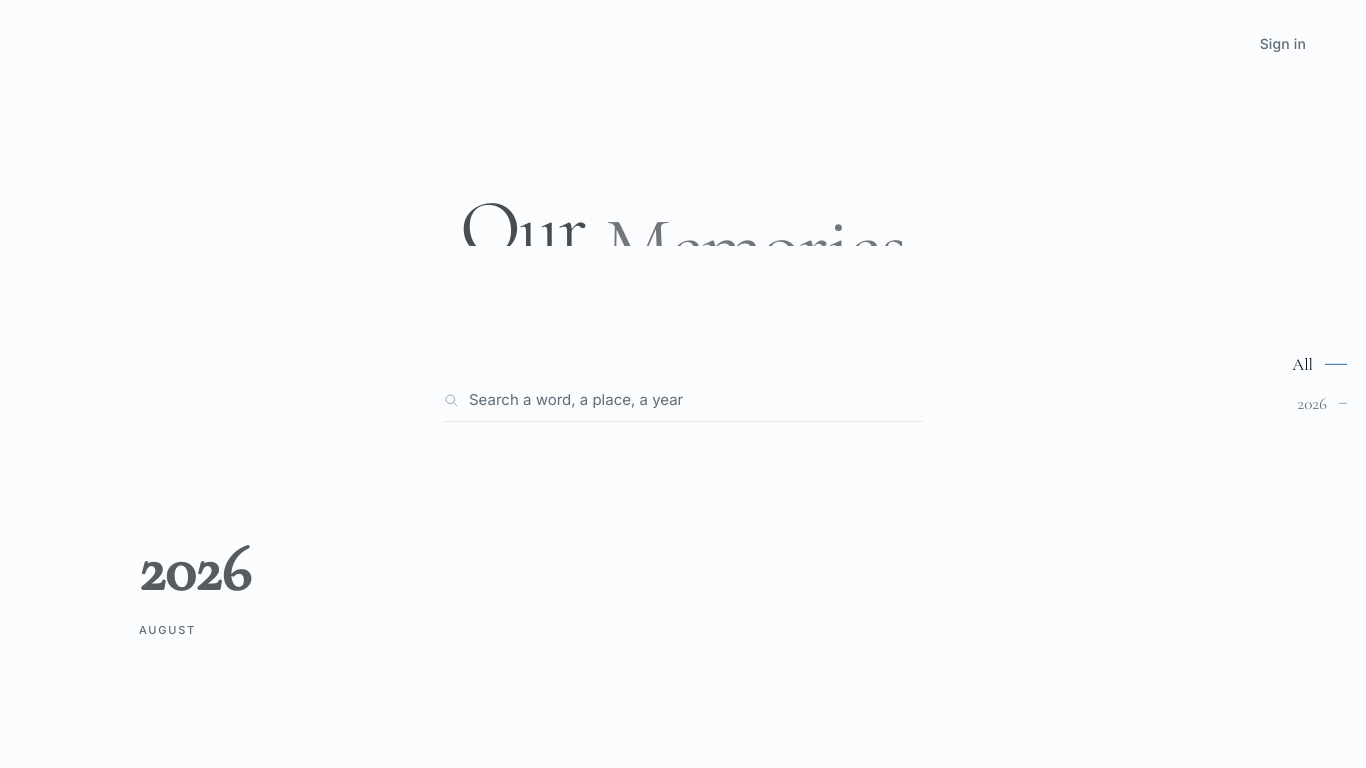
searching the archive › says nothing matched rather than offering to start the archive
In the search field with placeholder "Search a word, a place, a year": (695, 400) [467,387,923,413], type "rollerblading"
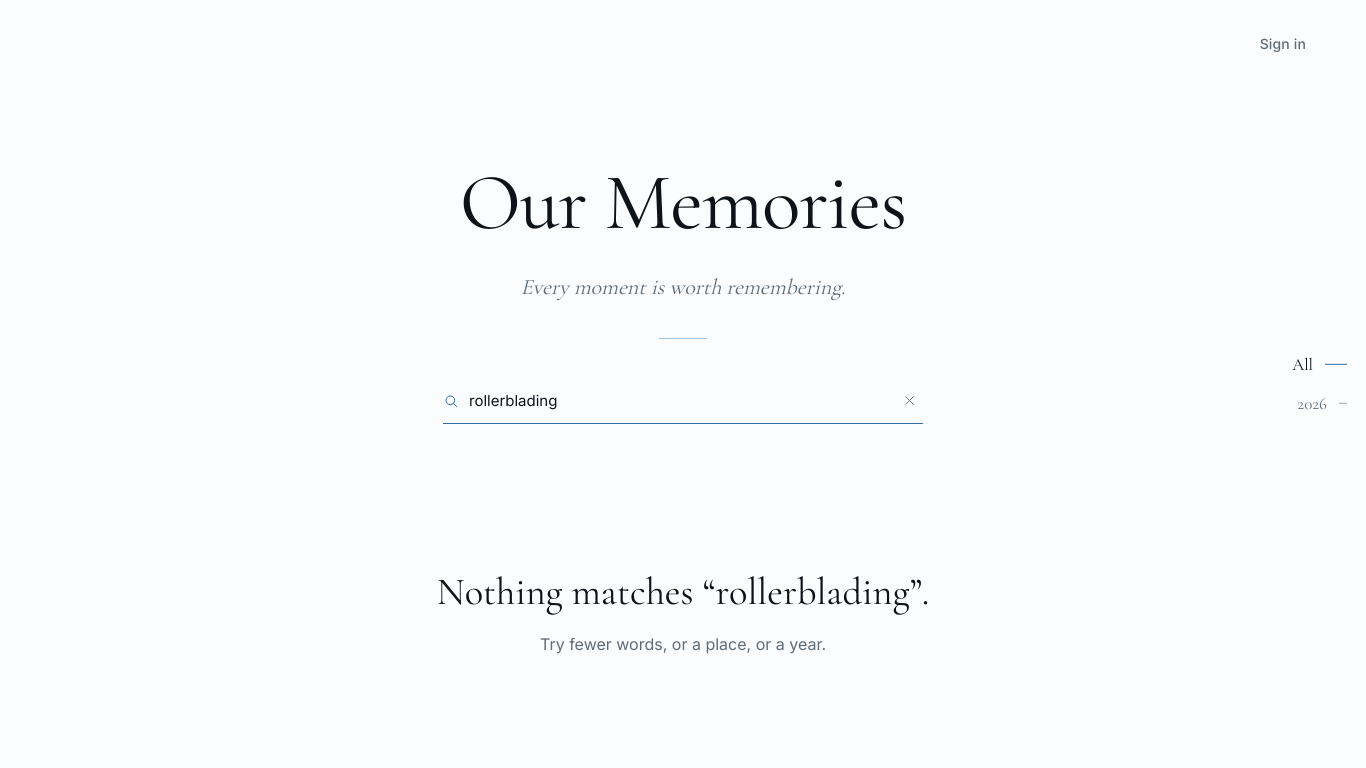
Now the text "Nothing matches “rollerblading”." is shown, box [437,569,929,615]
